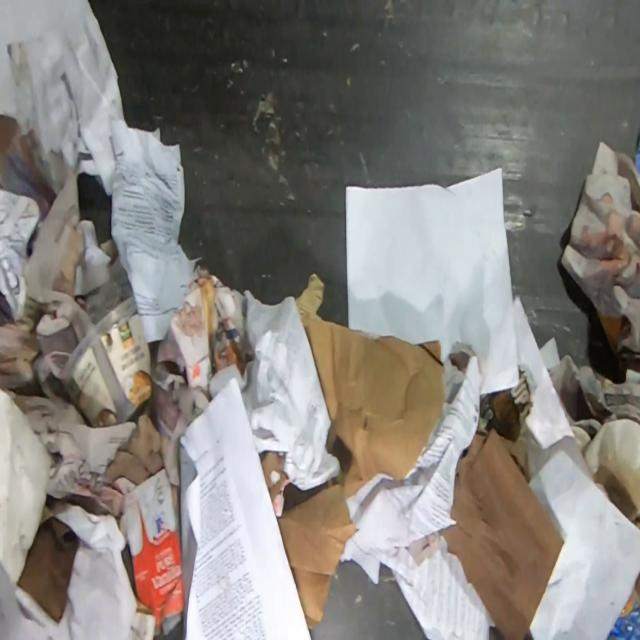cardboard: (276, 272, 444, 632), (438, 423, 565, 640), (111, 466, 185, 636), (0, 112, 22, 168)
rigid_plastic: (58, 295, 153, 427)
soft_plastic: (600, 568, 640, 640)
